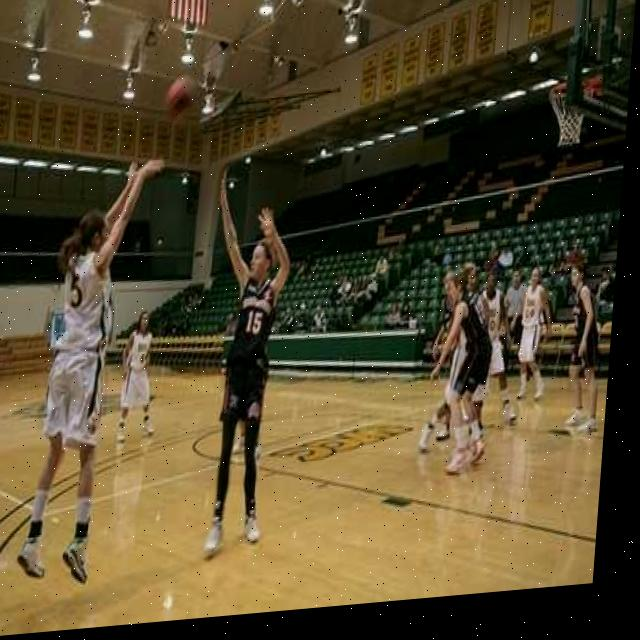basketball: (163, 70, 201, 123)
hoop: (544, 77, 595, 150)
